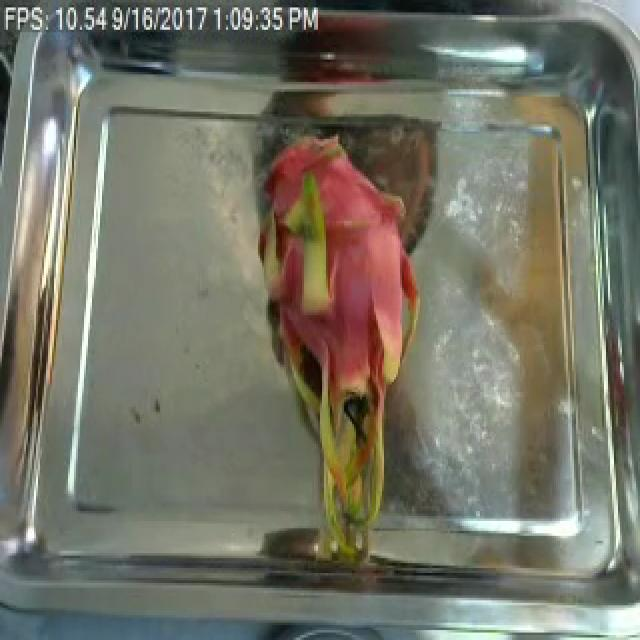fruit: (244, 137, 432, 570)
